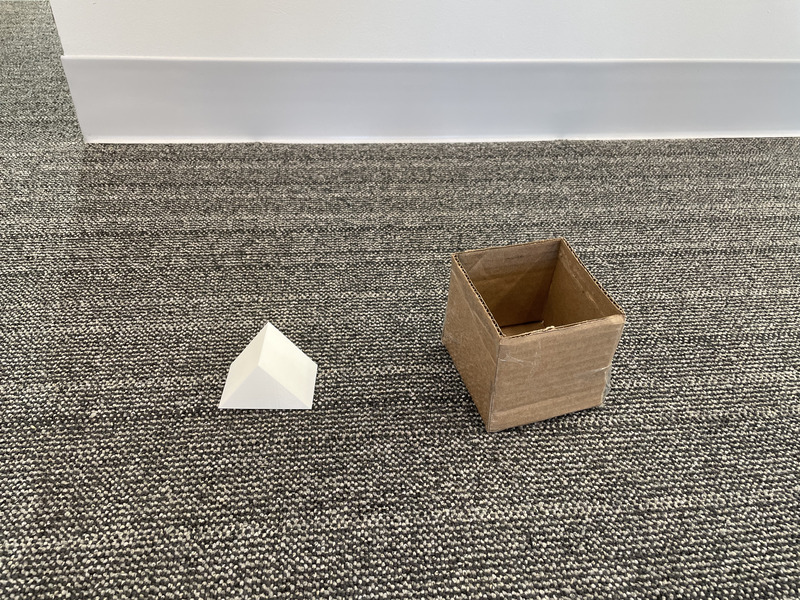payload2: (207, 317, 327, 424)
payload3: (436, 232, 636, 444)
